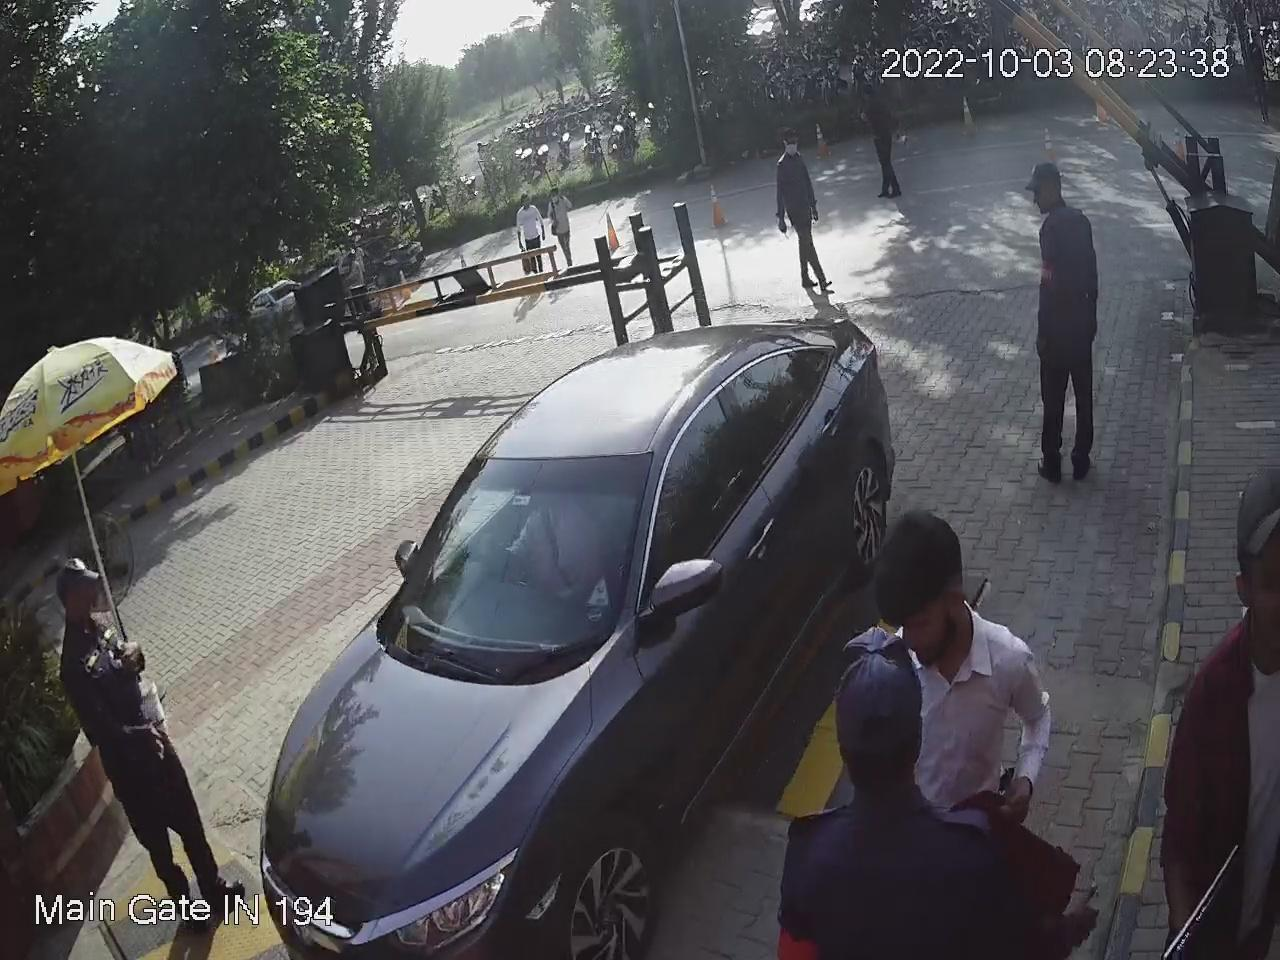windshield: (388, 453, 658, 661)
